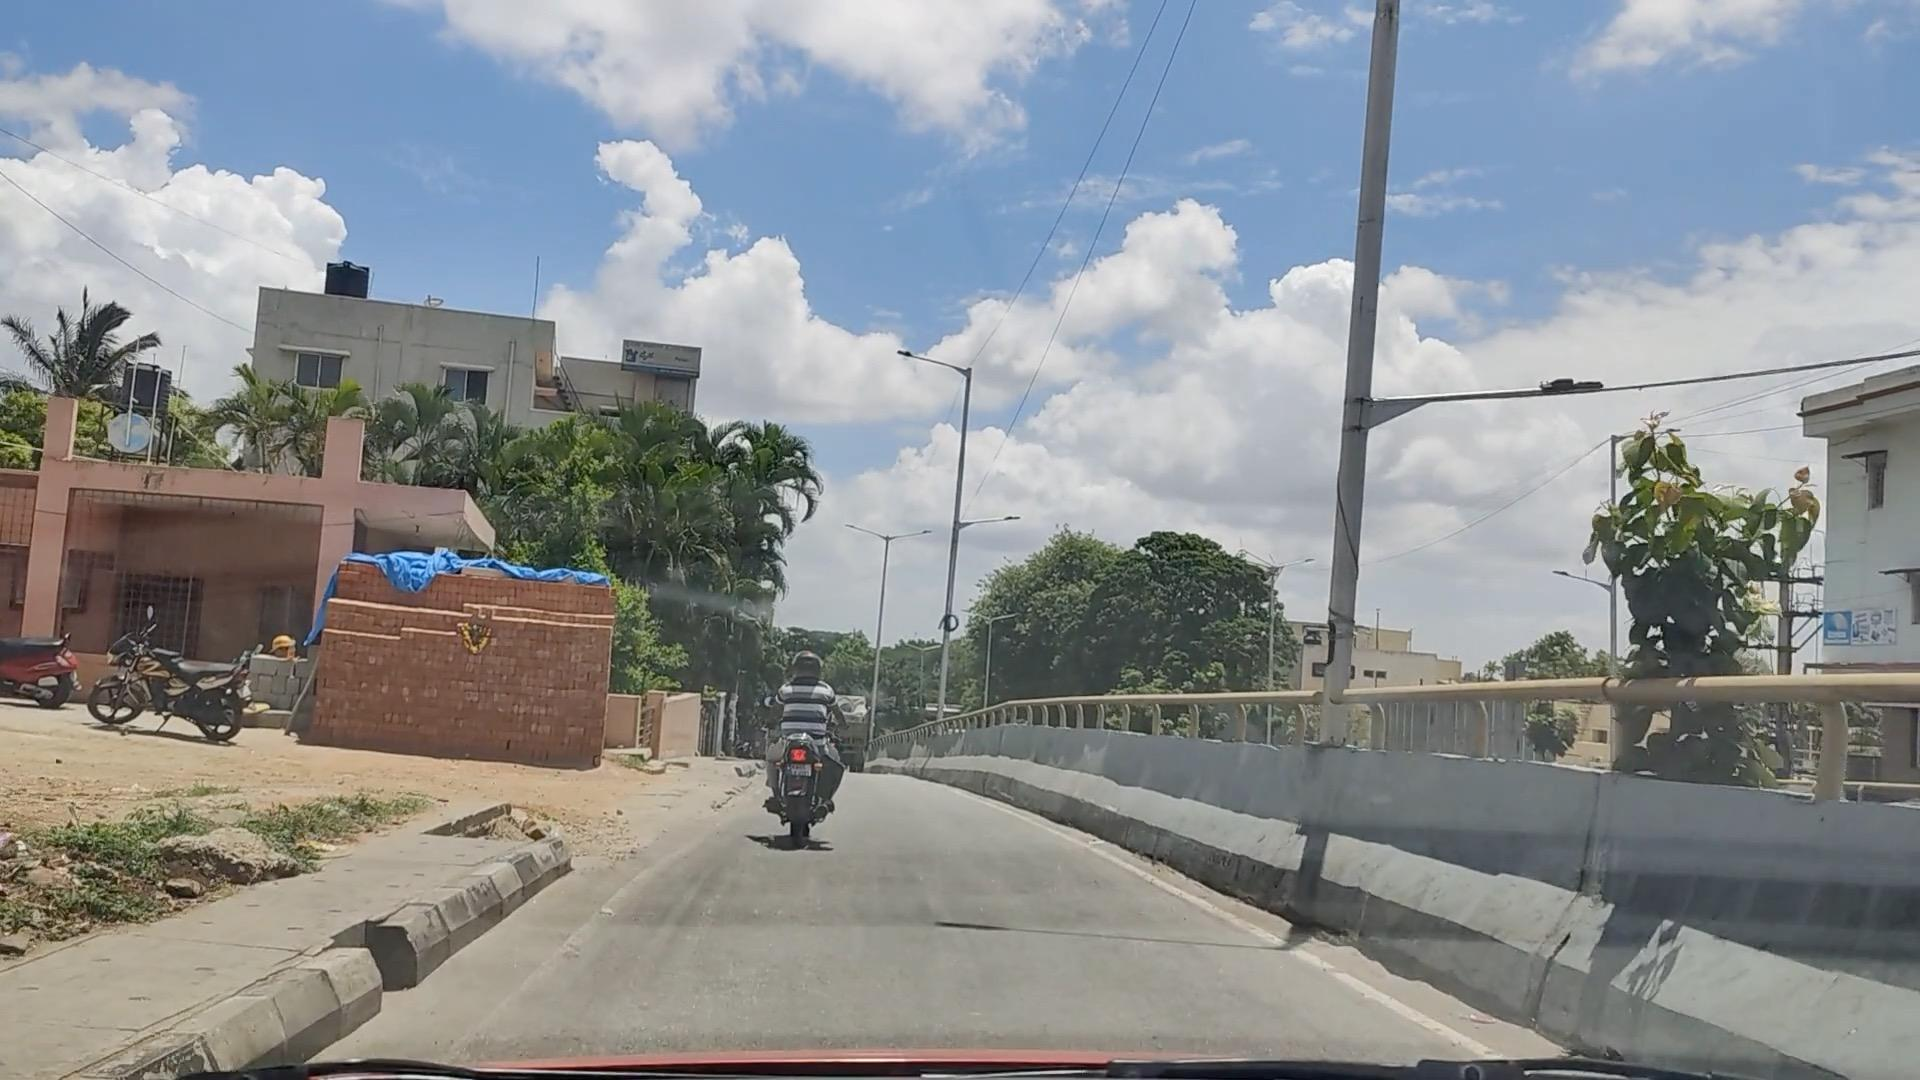LMV: (753, 643, 847, 832), (106, 640, 267, 725)
